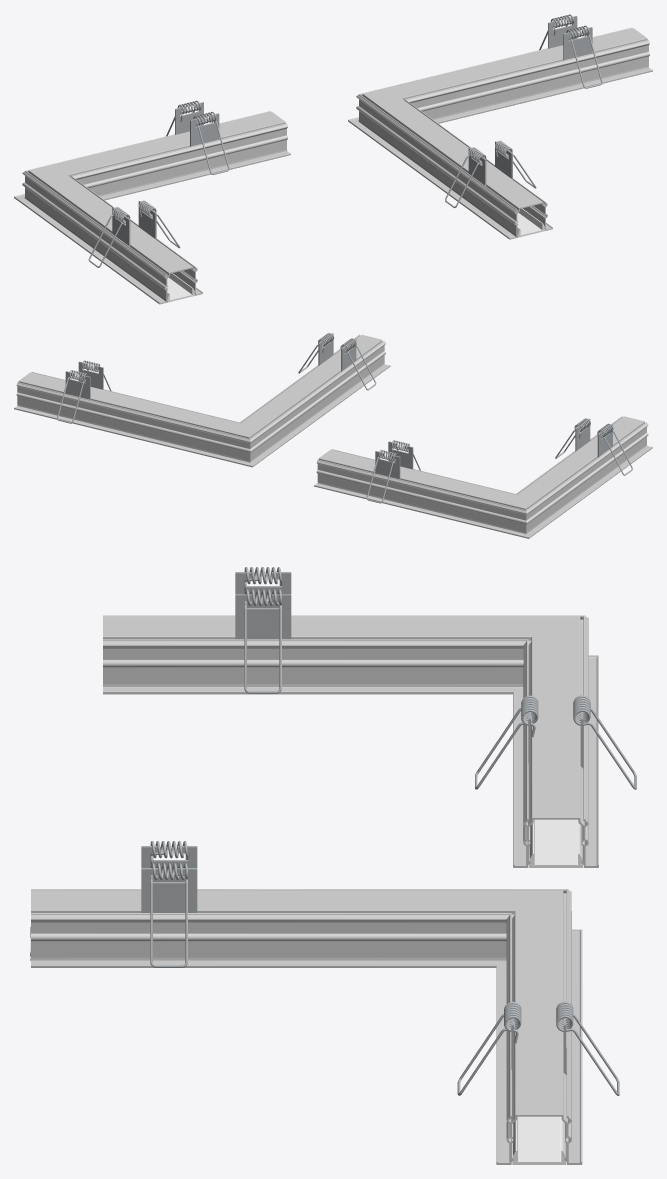
The model's file is Fit25StandardEmbutido-curva-direita-esquerda.glb.
The picture shows the model from 3 angles, top to bottom: view 1: azimuth 30°, elevation 25°; view 2: azimuth 150°, elevation 25°; view 3: azimuth 270°, elevation 25°; orthographic projection. The views are drawn at different scales.
Parts seen in each view (by area): view 1: 3DGeom-21, 3DGeom-11, 3DGeom-22, 3DGeom-12, 3DGeom-1 (×4), 3DGeom-14 (×2), 3DGeom-10, 3DGeom-16, 3DGeom-15, 3DGeom-2; view 2: 3DGeom-21, 3DGeom-11, 3DGeom-22, 3DGeom-12, 3DGeom-1 (×3), 3DGeom-14 (×2), 3DGeom-2 (×2), 3DGeom-15; view 3: 3DGeom-22, 3DGeom-12, 3DGeom-21, 3DGeom-11, 3DGeom-15 (×3), 3DGeom-2 (×3), 3DGeom-1 (×2), 3DGeom-14 (×2), 3DGeom-9, 3DGeom-13.
Part boxes in pixels (x1=…): 3DGeom-21: x1=349, y1=27, x2=652, y2=123; 3DGeom-11: x1=15, y1=111, x2=290, y2=200; 3DGeom-22: x1=348, y1=94, x2=552, y2=239; 3DGeom-12: x1=14, y1=170, x2=202, y2=304; 3DGeom-1 (×4): x1=112, y1=102, x2=219, y2=246; 3DGeom-14 (×2): x1=548, y1=16, x2=592, y2=60; 3DGeom-10: x1=166, y1=273, x2=194, y2=302; 3DGeom-16: x1=516, y1=208, x2=545, y2=237; 3DGeom-15: x1=566, y1=25, x2=602, y2=88; 3DGeom-2: x1=193, y1=111, x2=229, y2=174; 3DGeom-21: x1=14, y1=372, x2=252, y2=467; 3DGeom-11: x1=314, y1=449, x2=528, y2=538; 3DGeom-22: x1=239, y1=334, x2=390, y2=466; 3DGeom-12: x1=516, y1=416, x2=652, y2=538; 3DGeom-1 (×3): x1=375, y1=424, x2=612, y2=479; 3DGeom-14 (×2): x1=65, y1=361, x2=103, y2=399; 3DGeom-2 (×2): x1=366, y1=423, x2=632, y2=503; 3DGeom-15: x1=57, y1=370, x2=87, y2=423; 3DGeom-22: x1=31, y1=889, x2=580, y2=967; 3DGeom-12: x1=103, y1=615, x2=597, y2=694; 3DGeom-21: x1=496, y1=889, x2=582, y2=1164; 3DGeom-11: x1=513, y1=615, x2=598, y2=867; 3DGeom-15 (×3): x1=150, y1=863, x2=619, y2=1095; 3DGeom-2 (×3): x1=244, y1=589, x2=636, y2=789; 3DGeom-1 (×2): x1=235, y1=572, x2=291, y2=639; 3DGeom-14 (×2): x1=141, y1=846, x2=197, y2=912; 3DGeom-9: x1=529, y1=819, x2=582, y2=867; 3DGeom-13: x1=512, y1=1116, x2=565, y2=1164.
Size of the model in its own units: 0.561 by 0.0489 by 0.2752.
Materials: 3 (1 with a texture image).
